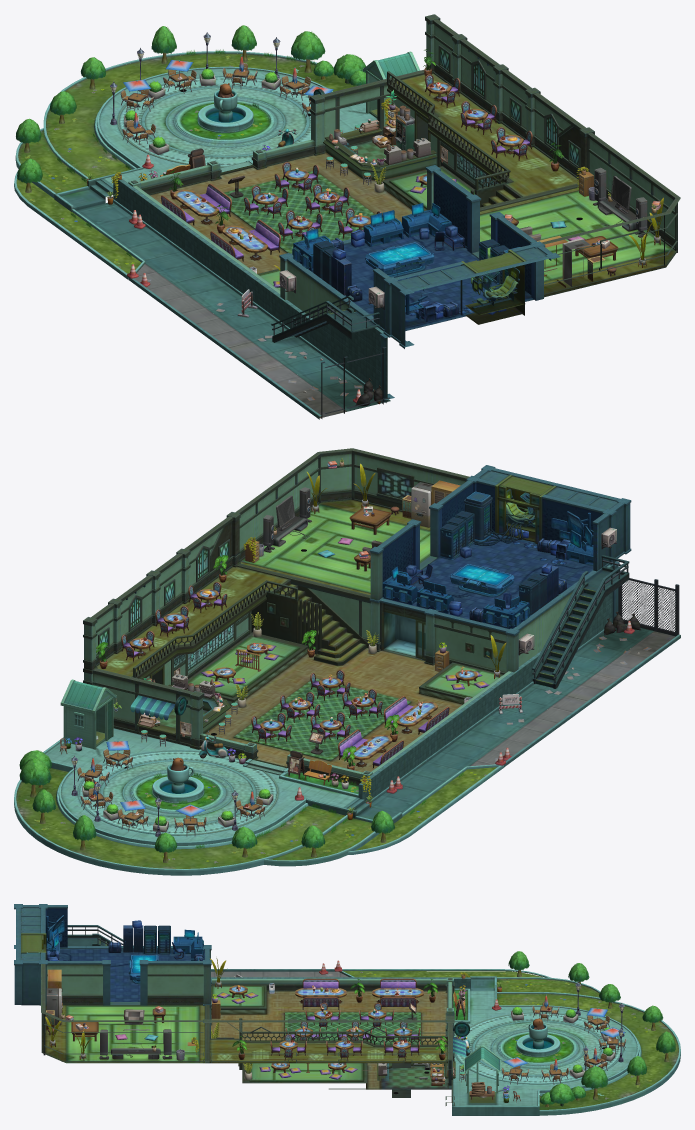
The model's file is febg_coffeeshop_001_02.glb.
3 views of the same model, one above another, from view 1: azimuth 30°, elevation 25°; view 2: azimuth 150°, elevation 25°; view 3: azimuth 270°, elevation 25° (orthographic). The views are drawn at different scales.
Parts seen in each view (by area): view 1: febg_coffeeshop_001_wall_01, febg_coffeeshop_001_bg_01, febg_coffeeshop_001_bg_02, febg_coffeeshop_001_wall_02, febg_coffeeshop_001_bg_03, febg_coffeeshop_001_bg_05, febg_coffeeshop_television_01, febg_coffeeshop_001_tree_03 (4), febg_coffeeshop_table_01, febg_coffeeshop_table_01 (1), febg_coffeeshop_beveragemachine_01; view 2: febg_coffeeshop_001_wall_01, febg_coffeeshop_001_bg_01, febg_coffeeshop_001_bg_02, febg_coffeeshop_001_wall_02, febg_coffeeshop_001_bg_03, febg_coffeeshop_001_bg_05, febg_coffeeshop_001_wall_03, febg_coffeeshop_television_01, febg_coffeeshop_refrigerator_01, febg_coffeeshop_001_tree_03 (4), febg_coffeeshop_table_07; view 3: febg_coffeeshop_001_bg_01, febg_coffeeshop_001_bg_02, febg_coffeeshop_001_wall_01, febg_coffeeshop_001_bg_03, febg_coffeeshop_001_wall_02, febg_coffeeshop_001_bg_05, febg_coffeeshop_television_01, febg_coffeeshop_001_tree_03 (4), febg_coffeeshop_refrigerator_01, febg_coffeeshop_table_01, febg_coffeeshop_001_tree_01 (3), febg_coffeeshop_table_01 (1) (+6 smaller).
Part boxes in pixels (<box>): febg_coffeeshop_001_wall_01: <box>113,14,680,418</box>; febg_coffeeshop_001_bg_01: <box>60,68,675,419</box>; febg_coffeeshop_001_bg_02: <box>14,51,533,330</box>; febg_coffeeshop_001_wall_02: <box>292,51,526,324</box>; febg_coffeeshop_001_bg_03: <box>16,53,356,273</box>; febg_coffeeshop_001_bg_05: <box>134,263,346,418</box>; febg_coffeeshop_television_01: <box>598,176,636,231</box>; febg_coffeeshop_001_tree_03 (4): <box>291,31,325,60</box>; febg_coffeeshop_table_01: <box>173,189,218,224</box>; febg_coffeeshop_table_01 (1): <box>222,225,267,260</box>; febg_coffeeshop_beveragemachine_01: <box>395,115,414,152</box>; febg_coffeeshop_001_wall_01: <box>83,448,679,802</box>; febg_coffeeshop_001_bg_01: <box>43,499,680,841</box>; febg_coffeeshop_001_bg_02: <box>14,534,593,875</box>; febg_coffeeshop_001_wall_02: <box>60,475,593,749</box>; febg_coffeeshop_001_bg_03: <box>16,767,496,868</box>; febg_coffeeshop_001_bg_05: <box>470,631,675,766</box>; febg_coffeeshop_001_wall_03: <box>621,580,675,632</box>; febg_coffeeshop_television_01: <box>273,495,309,546</box>; febg_coffeeshop_refrigerator_01: <box>411,482,432,527</box>; febg_coffeeshop_001_tree_03 (4): <box>19,758,51,785</box>; febg_coffeeshop_table_07: <box>349,507,391,534</box>; febg_coffeeshop_001_bg_01: <box>41,969,637,1115</box>; febg_coffeeshop_001_bg_02: <box>46,949,680,1115</box>; febg_coffeeshop_001_wall_01: <box>14,904,470,1105</box>; febg_coffeeshop_001_bg_03: <box>343,971,678,1109</box>; febg_coffeeshop_001_wall_02: <box>21,915,500,1103</box>; febg_coffeeshop_001_bg_05: <box>211,971,348,977</box>; febg_coffeeshop_television_01: <box>111,1029,160,1059</box>; febg_coffeeshop_001_tree_03 (4): <box>581,1066,607,1088</box>; febg_coffeeshop_refrigerator_01: <box>46,988,62,1025</box>; febg_coffeeshop_table_01: <box>372,988,423,1003</box>; febg_coffeeshop_001_tree_01 (3): <box>549,1083,574,1106</box>; febg_coffeeshop_table_01 (1): <box>295,988,346,1003</box>.
Bounding box in the file's own units: 45.93 × 14.12 × 88.85.
15 materials, 14 textured.
